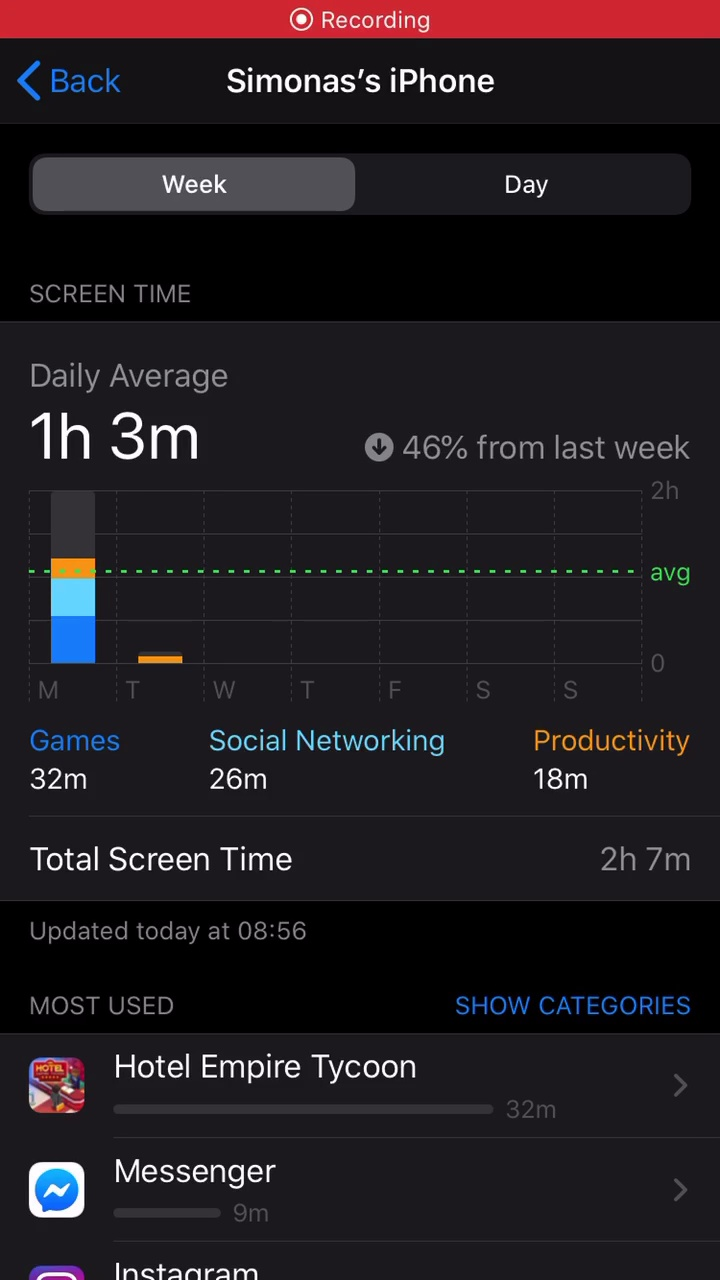use_over: (20, 714, 703, 897)
